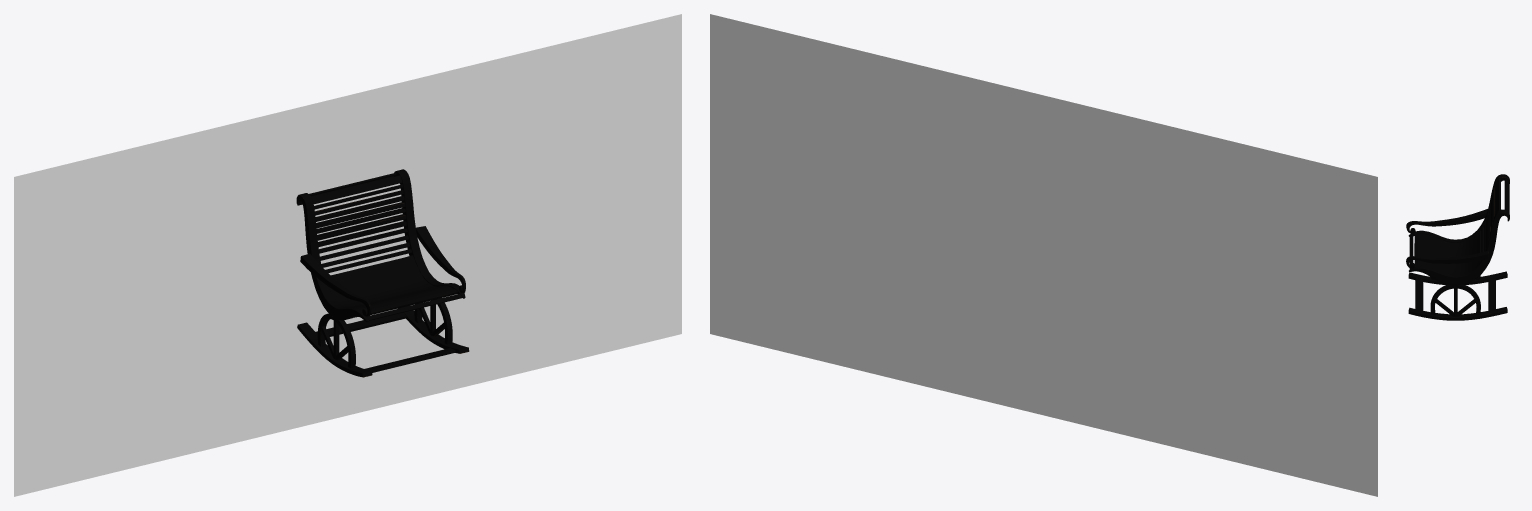
The model's file is Redsign physical productt.bmp.glb.
3 views of the same model, side by side, from view 1: azimuth 30°, elevation 25°; view 2: azimuth 150°, elevation 25°; view 3: azimuth 270°, elevation 25° (orthographic). The views are drawn at different scales.
Parts seen in each view (by area): view 1: object 1, node_id30; view 2: object 1; view 3: node_id30.
Boxes of the visible parts, x1,y1,x2,y2 form: object 1: [14, 14, 681, 496]; node_id30: [296, 169, 469, 377]; object 1: [710, 14, 1377, 496]; node_id30: [1406, 174, 1509, 320].
Bounding box in the file's own units: 2.47 × 1.13 × 0.4786.
Materials: 2 (2 with a texture image).
